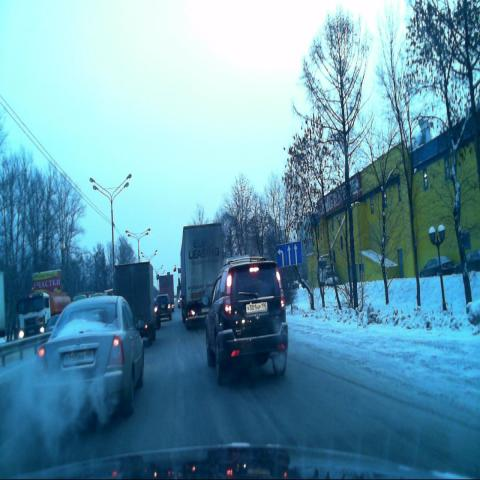5_15_1: (276, 243, 303, 268)
